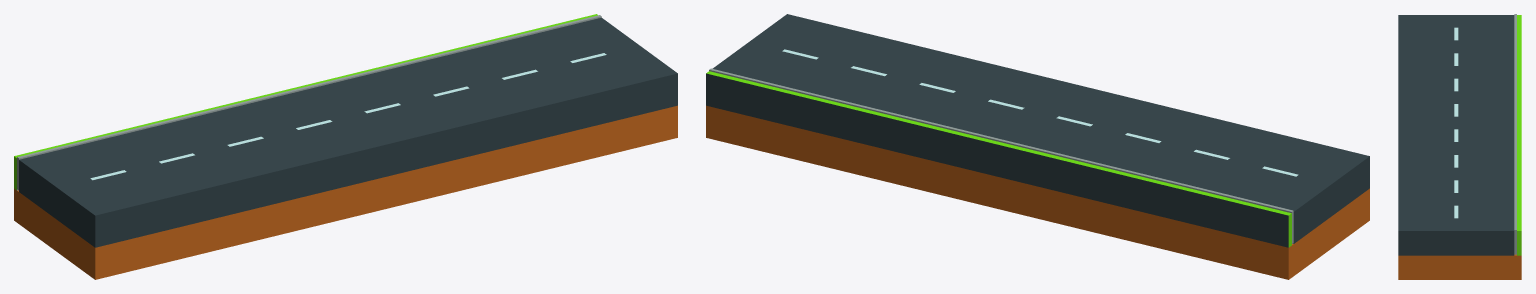
The model's file is Road.fbx.
The picture shows the model from 3 angles, left to right: view 1: azimuth 30°, elevation 25°; view 2: azimuth 150°, elevation 25°; view 3: azimuth 270°, elevation 25°; orthographic projection. The views are drawn at different scales.
Visible parts, largest first — view 1: Cube.003, Cube.002; view 2: Cube.003, Cube.002; view 3: Cube.003, Cube.002.
Boxes of the visible parts, x1,y1,x2,y2 form: Cube.003: (14,14,677,247); Cube.002: (14,105,677,279); Cube.003: (706,14,1369,247); Cube.002: (706,105,1369,279); Cube.003: (1398,14,1521,255); Cube.002: (1398,254,1521,279).
Bounding box in the file's own units: 1270 × 137 × 307.
Materials: 1 (1 with a texture image).
